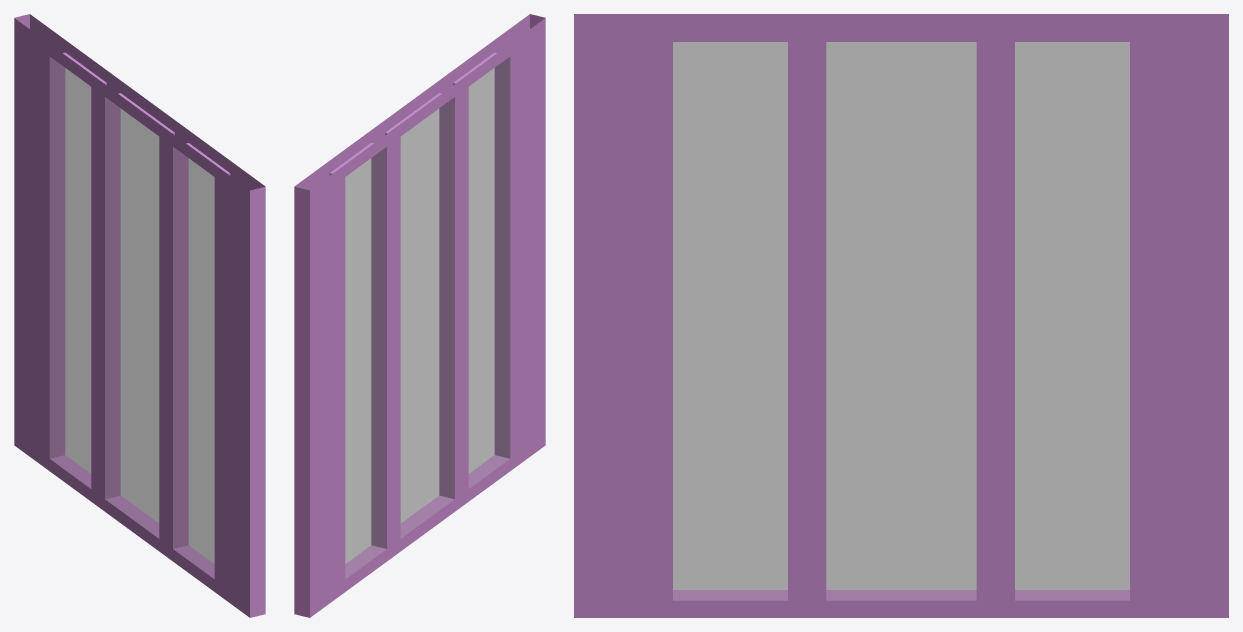
File: Window_Dinner.FBX
3 views of the same model, side by side, from view 1: azimuth 30°, elevation 25°; view 2: azimuth 150°, elevation 25°; view 3: azimuth 270°, elevation 25° (orthographic). The views are drawn at different scales.
Visible parts, largest first — view 1: Window_Dinner; view 2: Window_Dinner; view 3: Window_Dinner.
Boxes of the visible parts, x1=… form: Window_Dinner: x1=14, y1=14, x2=265, y2=617; Window_Dinner: x1=294, y1=14, x2=545, y2=617; Window_Dinner: x1=574, y1=14, x2=1228, y2=617.
Bounding box in the file's own units: 0.1937 × 5.04 × 5.04.
